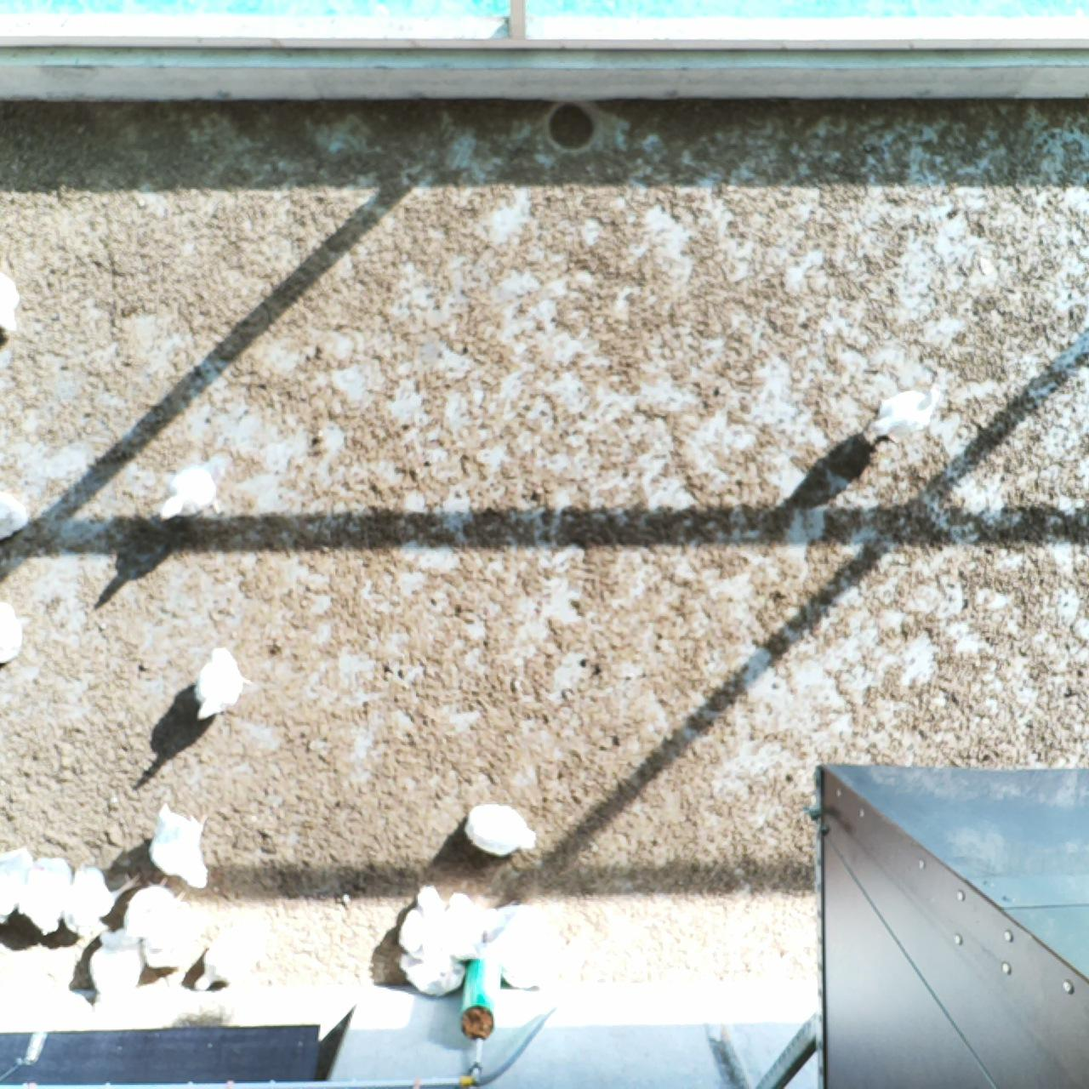chicken: (392, 882, 471, 999), (192, 910, 275, 996), (483, 900, 557, 992), (61, 860, 142, 942), (147, 799, 215, 892), (860, 379, 946, 448), (86, 922, 151, 1009), (152, 451, 228, 525), (139, 899, 215, 971), (191, 642, 253, 724), (17, 853, 76, 937), (460, 801, 543, 856), (431, 891, 495, 962), (122, 873, 186, 939), (0, 843, 35, 928), (0, 597, 28, 673), (0, 485, 33, 545)
